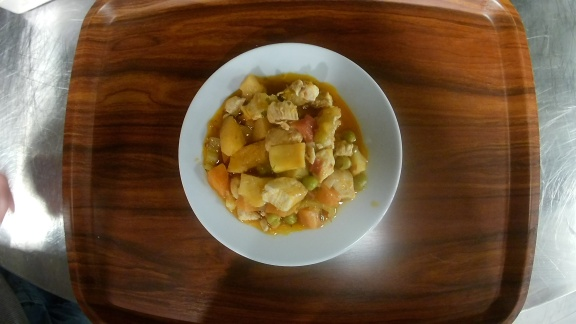bezelyelitavuk: (175, 40, 404, 269)
